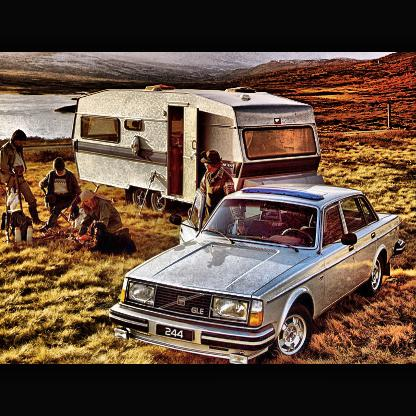Volvo 240 Sedan 1993: (110, 183, 406, 362)
